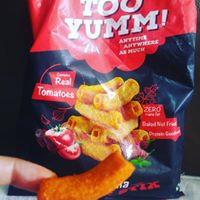plastic: (34, 1, 192, 195)
tooyumm: (63, 1, 169, 41)
wrapper: (39, 1, 183, 192)
